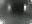person: (23, 5, 30, 16), (7, 5, 13, 15)
